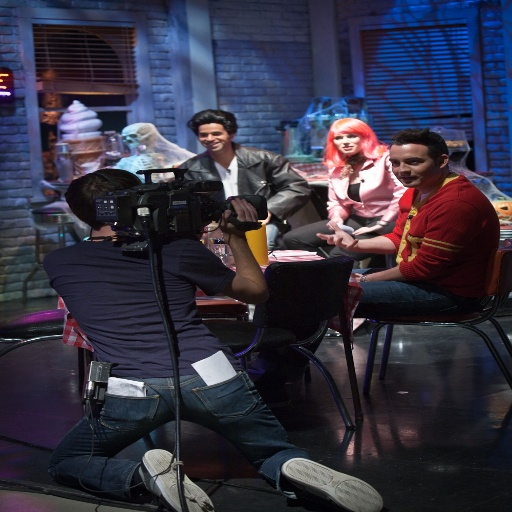hand: (324, 222, 392, 251), (216, 198, 260, 237), (350, 223, 379, 237), (350, 272, 363, 283)
